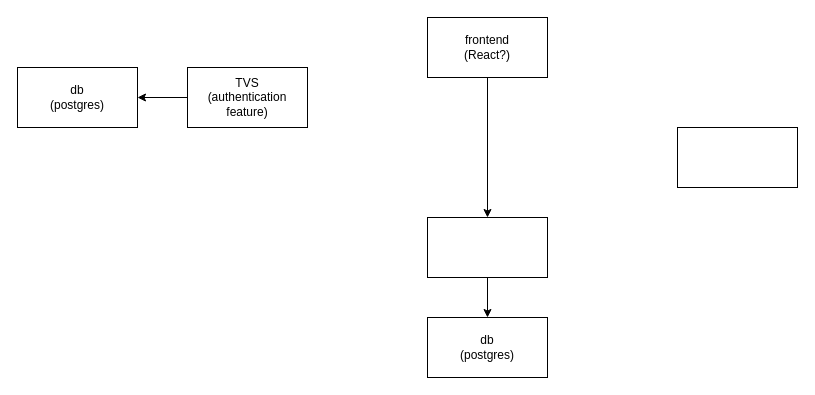
Image size: 815x395. Some labels were removed from this diagram. Here are the shapes that lost their labels. From the top down, the box of each, then its label:
(676, 126, 798, 188): solr (search feature)
(426, 216, 548, 278): backend (Java)
